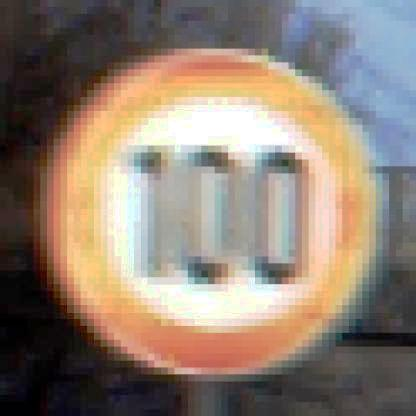Speed Limit -100-: (40, 44, 392, 382)
